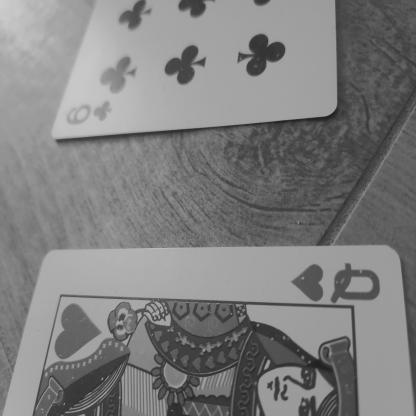6C: (60, 94, 116, 128)
QH: (285, 254, 396, 324)
